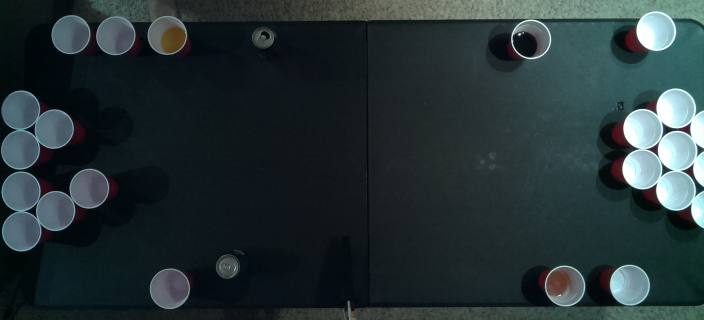active bp cup: (621, 108, 663, 150), (33, 108, 75, 149), (34, 189, 75, 231), (1, 210, 42, 252), (654, 88, 696, 129), (654, 170, 696, 211), (620, 149, 662, 190), (656, 130, 697, 171), (68, 168, 109, 208), (1, 89, 41, 130), (1, 171, 41, 211), (1, 130, 40, 170), (688, 108, 703, 149), (691, 150, 703, 189), (690, 192, 703, 228)
can: (214, 251, 242, 281), (248, 23, 275, 51)
drink cup: (542, 264, 586, 308), (145, 14, 188, 56), (509, 18, 552, 59)
inactive bp cup: (607, 263, 651, 306), (148, 265, 190, 309), (634, 10, 676, 51), (93, 15, 136, 55), (49, 14, 91, 54)
